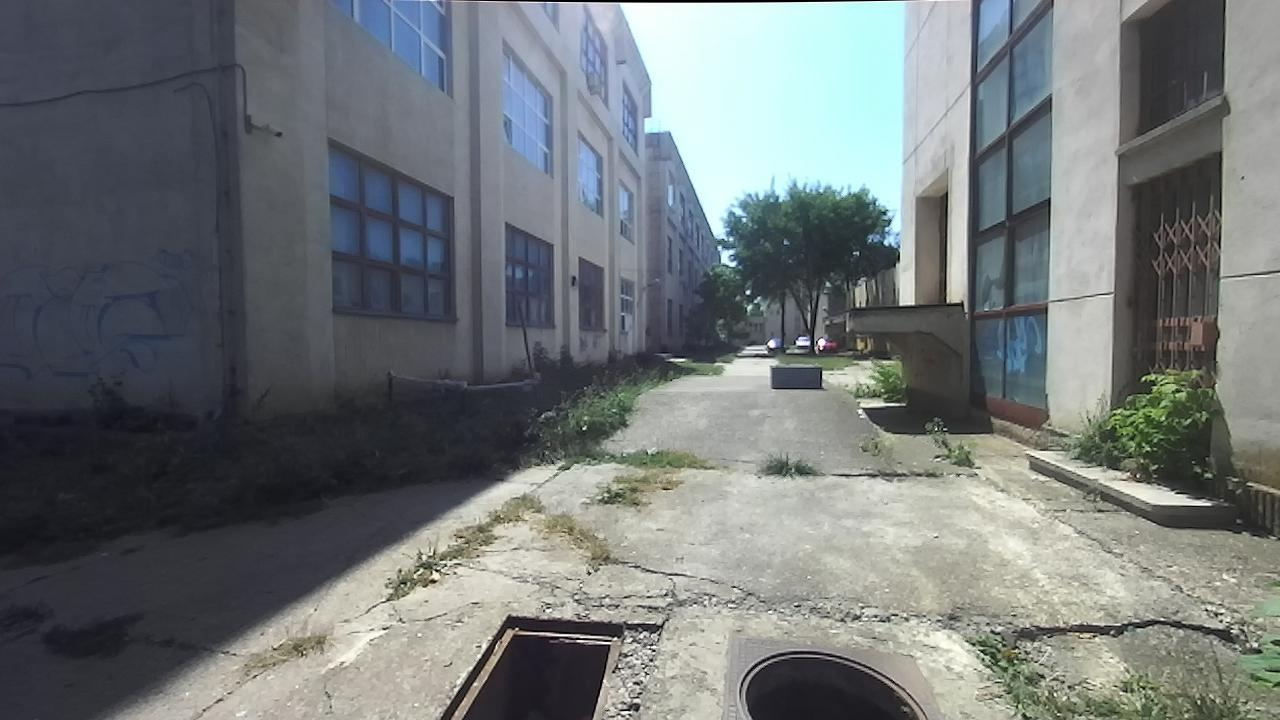drain: (435, 608, 628, 719), (730, 644, 932, 719)
